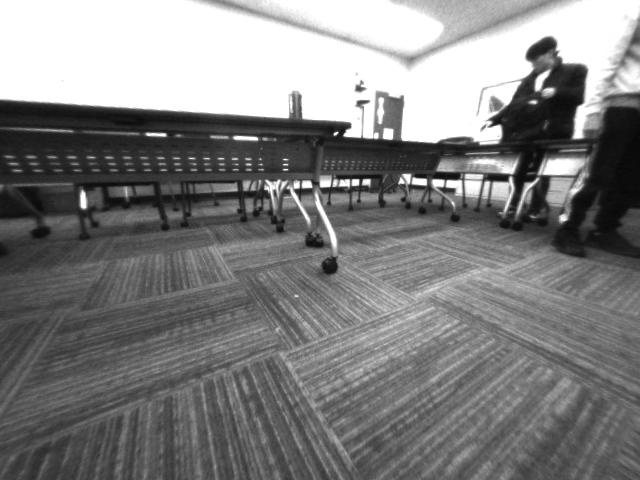can: (285, 85, 306, 121)
